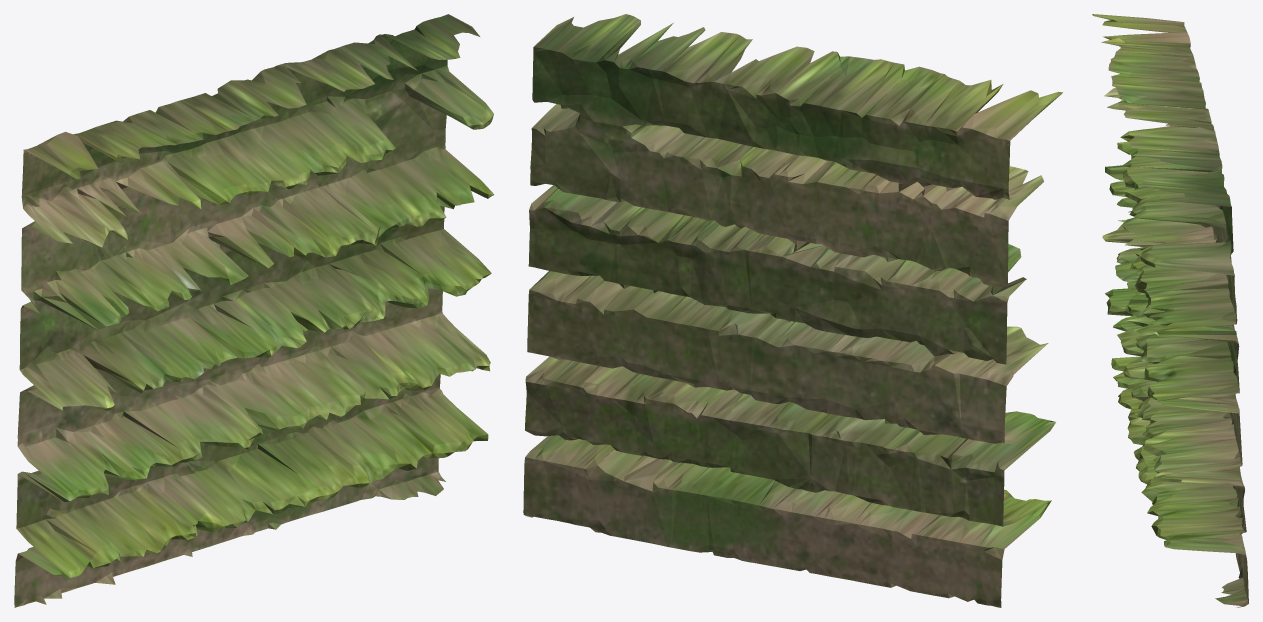
The model's file is map_80_60.obj.
The picture shows the model from 3 angles, left to right: view 1: azimuth 30°, elevation 25°; view 2: azimuth 150°, elevation 25°; view 3: azimuth 270°, elevation 25°; orthographic projection. The views are drawn at different scales.
Parts seen in each view (by area): view 1: grp1; view 2: grp1; view 3: grp1.
Part boxes in pixels (x1,y1,x2,y2): grp1: (14, 14, 494, 607); grp1: (523, 14, 1062, 607); grp1: (1092, 14, 1248, 607).
Bounding box in the file's own units: 10 × 10 × 3.51.
Materials: 1 (1 with a texture image).
